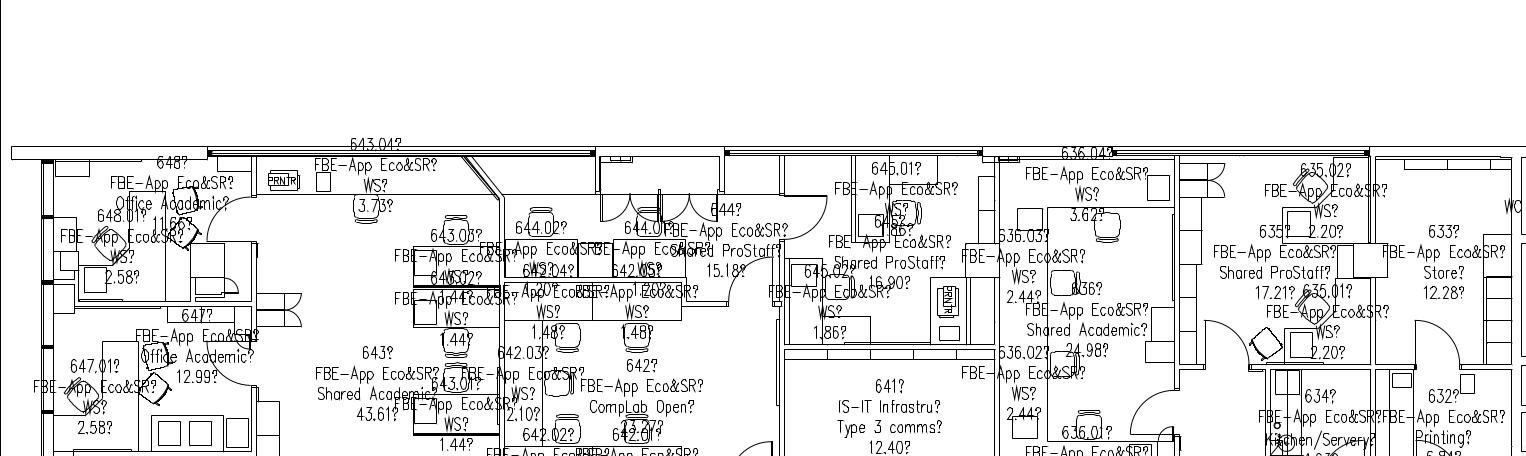door: (1406, 306, 1465, 369), (1202, 307, 1253, 376), (1125, 371, 1176, 440), (778, 181, 829, 250), (725, 241, 776, 310), (203, 329, 254, 398), (204, 192, 255, 261)
